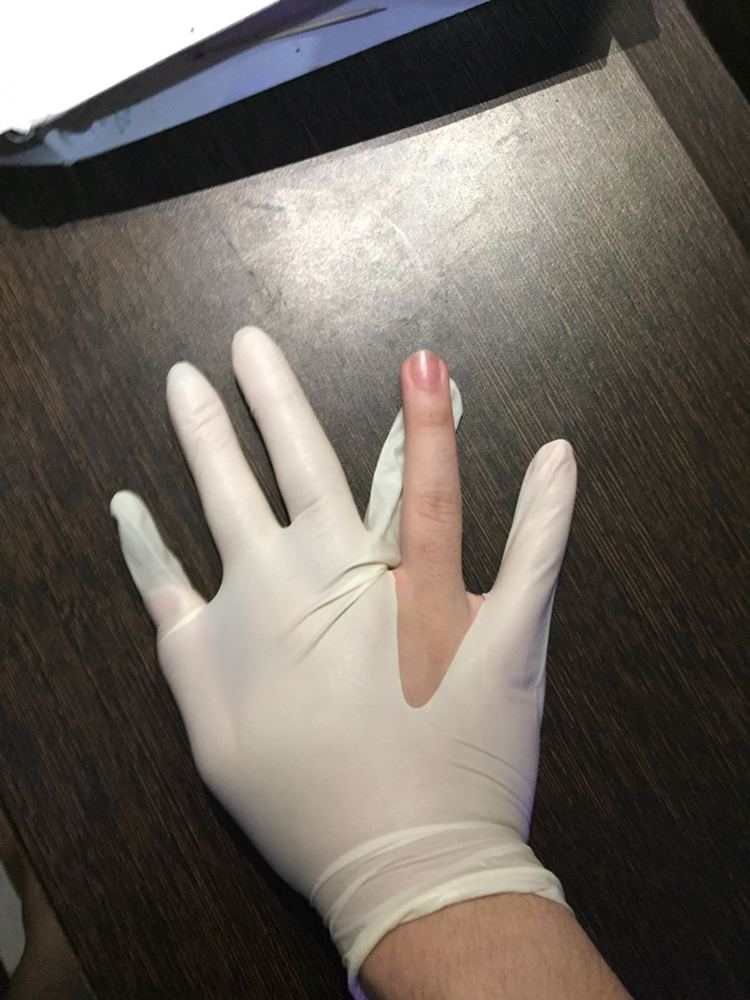defected: (68, 284, 636, 913)
